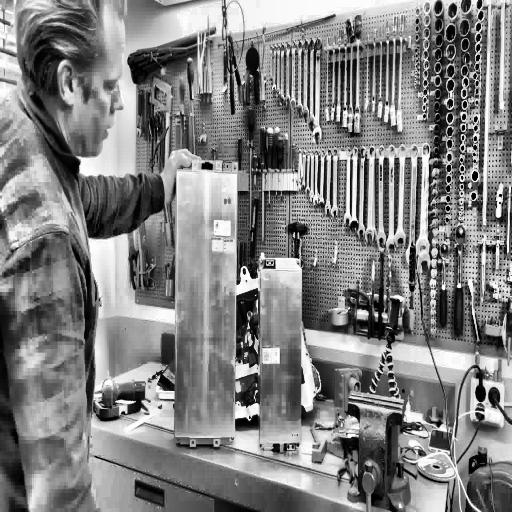battery_module: (176, 170, 238, 438), (260, 268, 300, 444)
